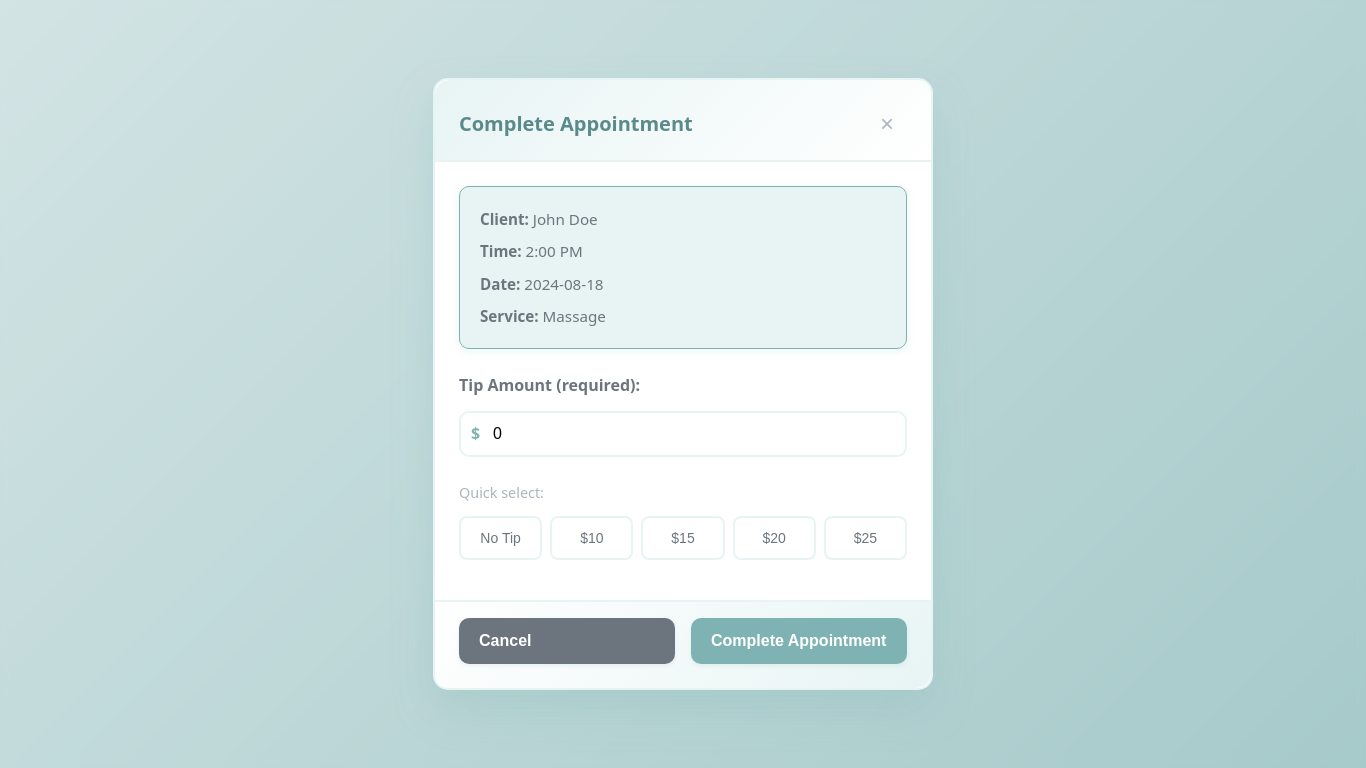
Test case: TipModal Component › User Interactions › no tip button sets amount to 0
Note: First set a tip amount
In the number field with placeholder "0.00": (683, 434) x1=459 y1=411 x2=907 y2=457, type "20"
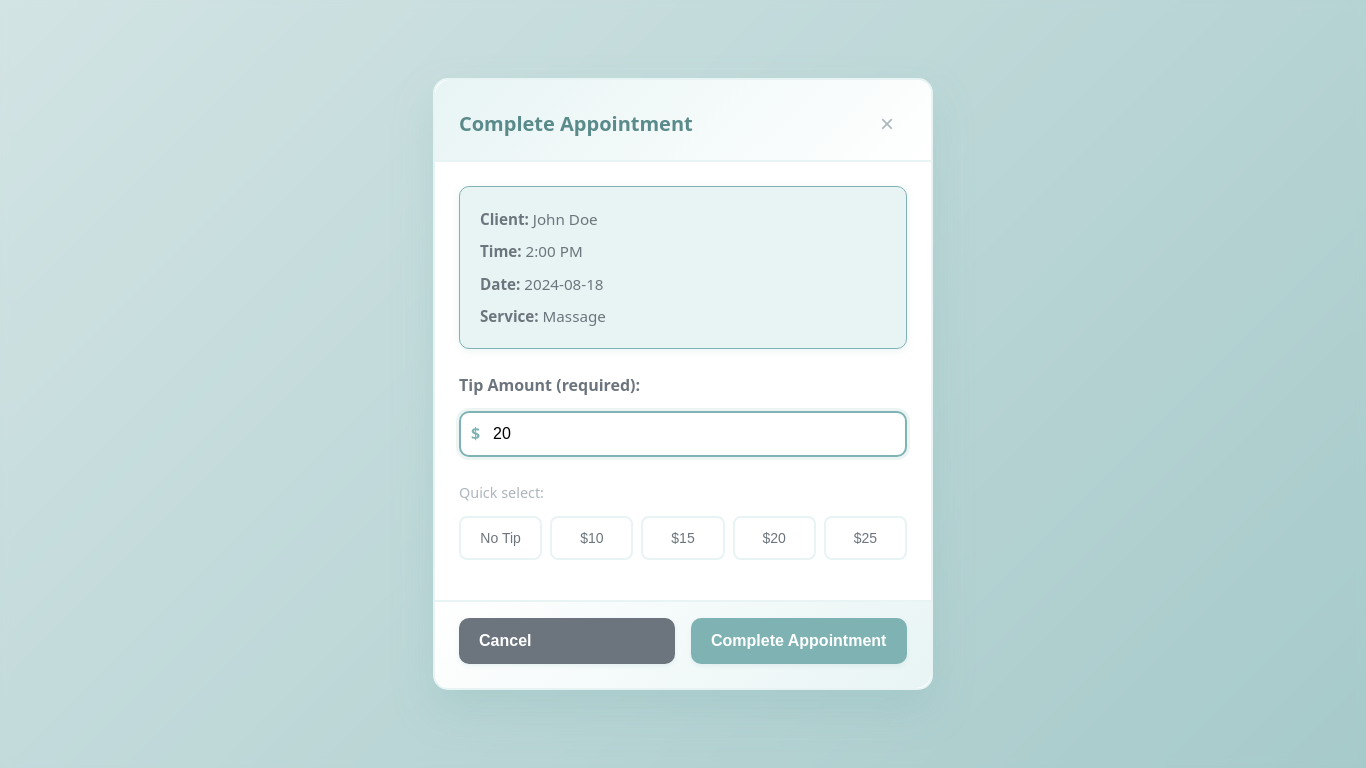
Note: Then click no tip
Click the button "No Tip": (501, 538) x1=459 y1=516 x2=542 y2=560
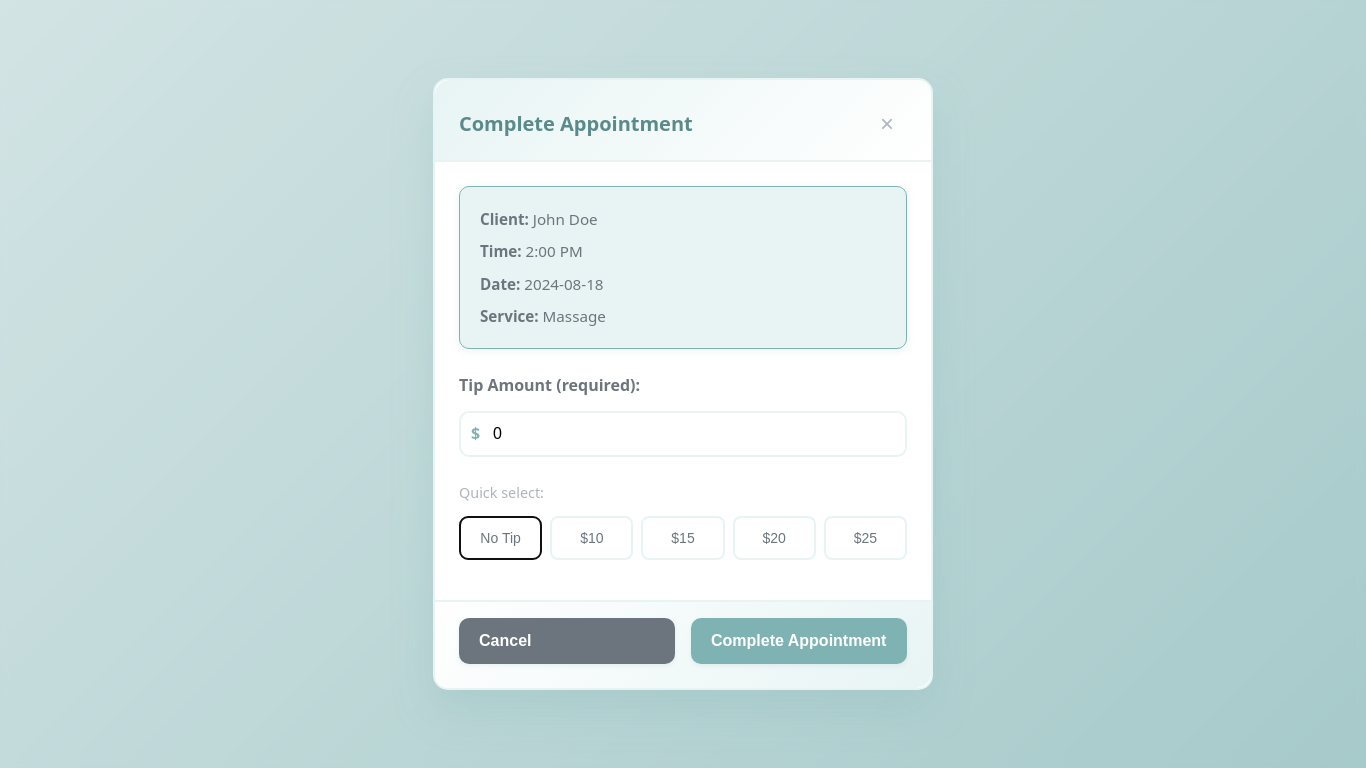
Now the number field with placeholder "0.00" holds "0", box x1=459 y1=411 x2=907 y2=457
